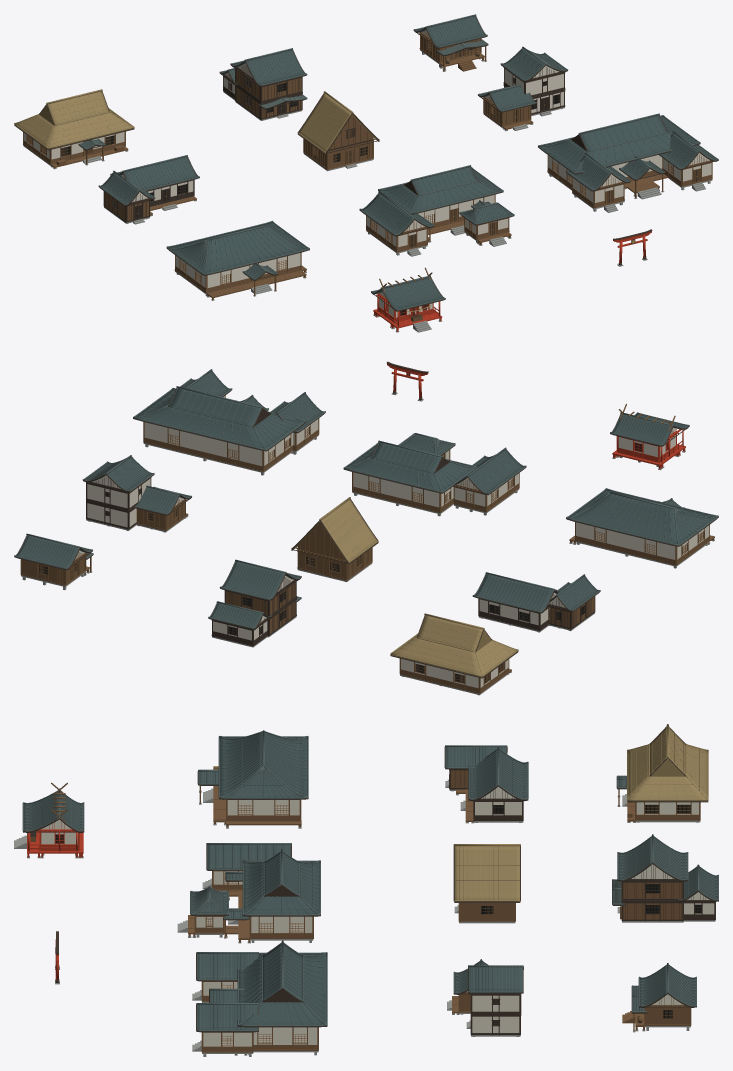
File: JapanTown_Buildings.fbx
The picture shows the model from 3 angles, top to bottom: view 1: azimuth 30°, elevation 25°; view 2: azimuth 150°, elevation 25°; view 3: azimuth 270°, elevation 25°; orthographic projection. The views are drawn at different scales.
Parts seen in each view (by area): view 1: JP_Noble_03_U_Court_Residence_Roof, JP_Noble_02_Shoin_Compound_Roof, JP_Noble_01_Samurai_Residence_Roof, JP_Minka_01_Thatched_Farmhouse_Roof, JP_Minka_04_L_Courtyard_House_Roof, JP_Minka_06_Merchant_With_Kura_Roof, JP_Minka_02_Machiya_Roof, JP_Minka_05_Gassho_Mountain_House_Roof, JP_Noble_03_U_Court_Residence_Walls, JP_Minka_03_Fishing_House_Roof, JP_Noble_02_Shoin_Compound_Walls, JP_Shrine_01_Nagare_Honden_Roof (+19 smaller); view 2: JP_Noble_03_U_Court_Residence_Roof, JP_Noble_02_Shoin_Compound_Roof, JP_Noble_01_Samurai_Residence_Roof, JP_Minka_01_Thatched_Farmhouse_Roof, JP_Minka_04_L_Courtyard_House_Roof, JP_Noble_03_U_Court_Residence_Walls, JP_Minka_02_Machiya_Roof, JP_Noble_02_Shoin_Compound_Walls, JP_Minka_06_Merchant_With_Kura_Roof, JP_Minka_05_Gassho_Mountain_House_Roof, JP_Minka_06_Merchant_With_Kura_Walls, JP_Noble_01_Samurai_Residence_Walls (+18 smaller); view 3: JP_Noble_03_U_Court_Residence_Roof, JP_Noble_02_Shoin_Compound_Roof, JP_Noble_01_Samurai_Residence_Roof, JP_Minka_01_Thatched_Farmhouse_Roof, JP_Minka_05_Gassho_Mountain_House_Roof, JP_Minka_04_L_Courtyard_House_Roof, JP_Minka_02_Machiya_Roof, JP_Noble_03_U_Court_Residence_Walls, JP_Minka_02_Machiya_Walls, JP_Minka_03_Fishing_House_Roof, JP_Minka_06_Merchant_With_Kura_Roof, JP_Shrine_01_Nagare_Honden_Roof (+16 smaller).
Boxes of the visible parts, x1,y1,x2,y2 form: JP_Noble_03_U_Court_Residence_Roof: (538, 113, 718, 191); JP_Noble_02_Shoin_Compound_Roof: (359, 165, 514, 236); JP_Noble_01_Samurai_Residence_Roof: (166, 221, 309, 280); JP_Minka_01_Thatched_Farmhouse_Roof: (14, 89, 134, 150); JP_Minka_04_L_Courtyard_House_Roof: (98, 155, 199, 205); JP_Minka_06_Merchant_With_Kura_Roof: (478, 46, 567, 112); JP_Minka_02_Machiya_Roof: (219, 48, 307, 109); JP_Minka_05_Gassho_Mountain_House_Roof: (297, 91, 379, 154); JP_Noble_03_U_Court_Residence_Walls: (548, 155, 711, 206); JP_Minka_03_Fishing_House_Roof: (413, 14, 488, 56); JP_Noble_02_Shoin_Compound_Walls: (366, 195, 508, 250); JP_Shrine_01_Nagare_Honden_Roof: (371, 275, 445, 311); JP_Noble_03_U_Court_Residence_Roof: (133, 369, 325, 451); JP_Noble_02_Shoin_Compound_Roof: (343, 433, 526, 495); JP_Noble_01_Samurai_Residence_Roof: (566, 488, 718, 546); JP_Minka_01_Thatched_Farmhouse_Roof: (390, 613, 518, 678); JP_Minka_04_L_Courtyard_House_Roof: (472, 572, 600, 613); JP_Noble_03_U_Court_Residence_Walls: (144, 396, 318, 469); JP_Minka_02_Machiya_Roof: (208, 559, 301, 629); JP_Noble_02_Shoin_Compound_Walls: (353, 450, 518, 511); JP_Minka_06_Merchant_With_Kura_Roof: (82, 455, 191, 515); JP_Minka_05_Gassho_Mountain_House_Roof: (291, 497, 378, 564); JP_Minka_06_Merchant_With_Kura_Walls: (87, 478, 184, 529); JP_Noble_01_Samurai_Residence_Walls: (576, 522, 709, 563); JP_Noble_03_U_Court_Residence_Roof: (196, 940, 327, 1032); JP_Noble_02_Shoin_Compound_Roof: (190, 843, 320, 920); JP_Noble_01_Samurai_Residence_Roof: (197, 730, 308, 799); JP_Minka_01_Thatched_Farmhouse_Roof: (616, 724, 708, 802); JP_Minka_05_Gassho_Mountain_House_Roof: (453, 844, 520, 902); JP_Minka_04_L_Courtyard_House_Roof: (444, 745, 528, 801); JP_Minka_02_Machiya_Roof: (612, 834, 718, 905); JP_Noble_03_U_Court_Residence_Walls: (203, 982, 317, 1050); JP_Minka_02_Machiya_Walls: (623, 882, 714, 919); JP_Minka_03_Fishing_House_Roof: (631, 963, 696, 1013); JP_Minka_06_Merchant_With_Kura_Roof: (453, 959, 523, 994); JP_Shrine_01_Nagare_Honden_Roof: (22, 788, 84, 832).
Size of the model in its own units: 80.61 by 8.55 by 82.
